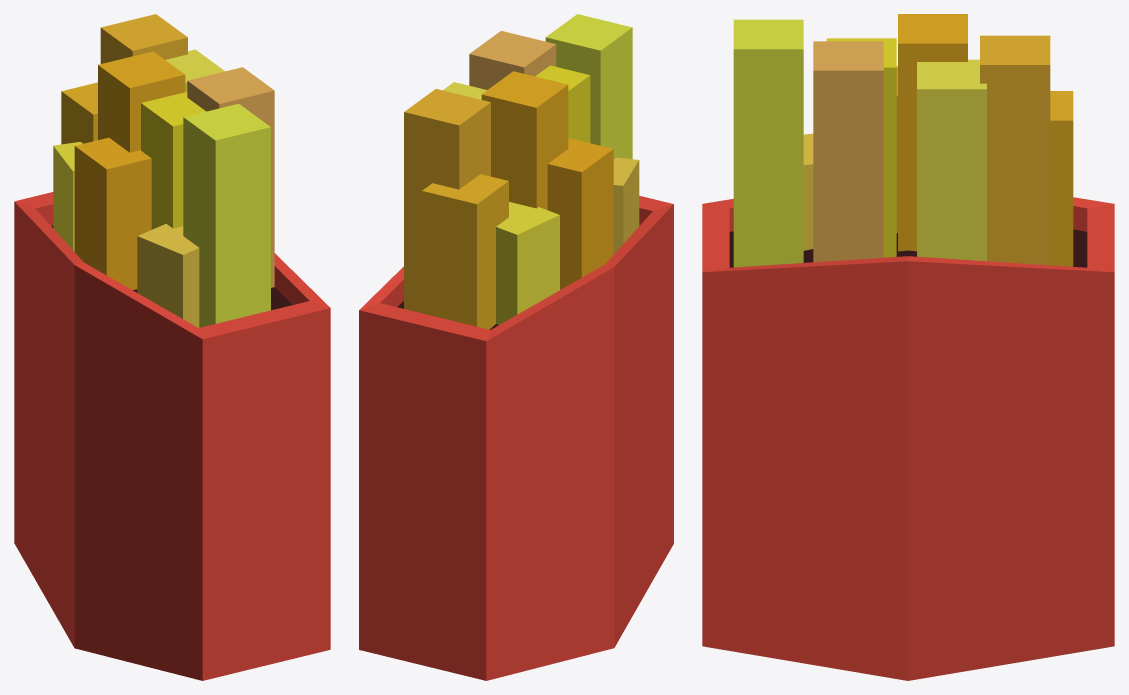
File: fries.fbx
3 views of the same model, side by side, from view 1: azimuth 30°, elevation 25°; view 2: azimuth 150°, elevation 25°; view 3: azimuth 270°, elevation 25° (orthographic). The views are drawn at different scales.
Parts seen in each view (by area): view 1: Cube, Cube.009, Cube.001, Cube.008, Cube.010, Cube.004, Cube.003, Cube.005, Cube.007, Cube.006, Cube.002; view 2: Cube, Cube.006, Cube.005, Cube.008, Cube.001, Cube.009, Cube.007, Cube.003, Cube.004, Cube.010; view 3: Cube, Cube.009, Cube.003, Cube.005, Cube.002, Cube.008, Cube.006, Cube.010, Cube.004.
Part boxes in pixels (x1=…): Cube: x1=14, y1=192, x2=330, y2=680; Cube.009: x1=183, y1=103, x2=270, y2=327; Cube.001: x1=74, y1=137, x2=151, y2=290; Cube.008: x1=98, y1=51, x2=185, y2=152; Cube.010: x1=141, y1=92, x2=205, y2=229; Cube.004: x1=137, y1=223, x2=199, y2=327; Cube.003: x1=187, y1=67, x2=274, y2=287; Cube.005: x1=100, y1=14, x2=187, y2=63; Cube.007: x1=53, y1=142, x2=82, y2=251; Cube.006: x1=61, y1=82, x2=97, y2=144; Cube.002: x1=165, y1=49, x2=224, y2=91; Cube: x1=359, y1=195, x2=673, y2=680; Cube.006: x1=422, y1=174, x2=508, y2=329; Cube.005: x1=404, y1=89, x2=490, y2=313; Cube.008: x1=481, y1=71, x2=568, y2=209; Cube.001: x1=547, y1=138, x2=613, y2=289; Cube.009: x1=545, y1=14, x2=632, y2=159; Cube.007: x1=496, y1=202, x2=559, y2=324; Cube.003: x1=469, y1=31, x2=556, y2=89; Cube.004: x1=613, y1=157, x2=639, y2=254; Cube.010: x1=535, y1=65, x2=590, y2=142; Cube: x1=702, y1=197, x2=1114, y2=680; Cube.009: x1=733, y1=19, x2=803, y2=267; Cube.003: x1=813, y1=41, x2=883, y2=262; Cube.005: x1=980, y1=35, x2=1050, y2=265; Cube.002: x1=917, y1=59, x2=986, y2=261; Cube.008: x1=898, y1=14, x2=967, y2=251; Cube.006: x1=1050, y1=91, x2=1073, y2=266; Cube.010: x1=826, y1=38, x2=896, y2=257; Cube.004: x1=803, y1=133, x2=813, y2=250.
Size of the model in its own units: 104 by 323 by 200.
